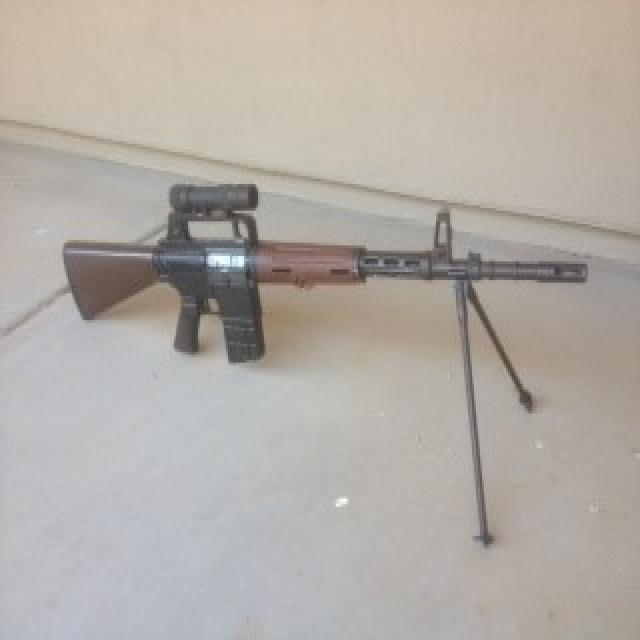Rifle: (62, 184, 586, 365)
